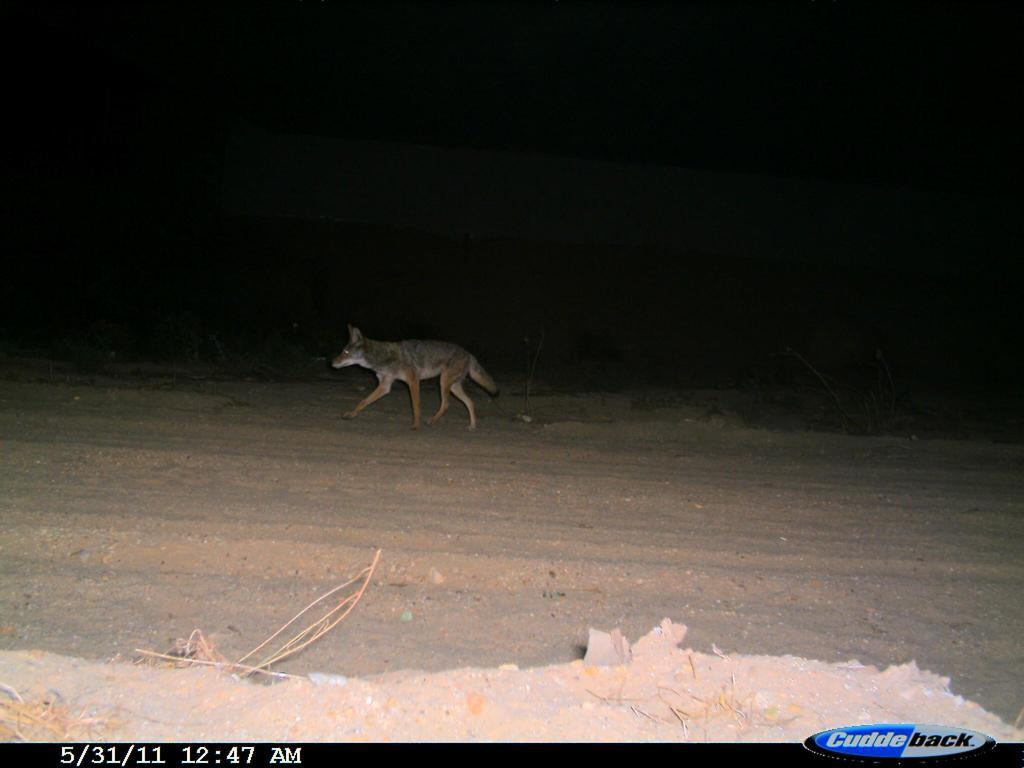coyote: (329, 321, 505, 434)
